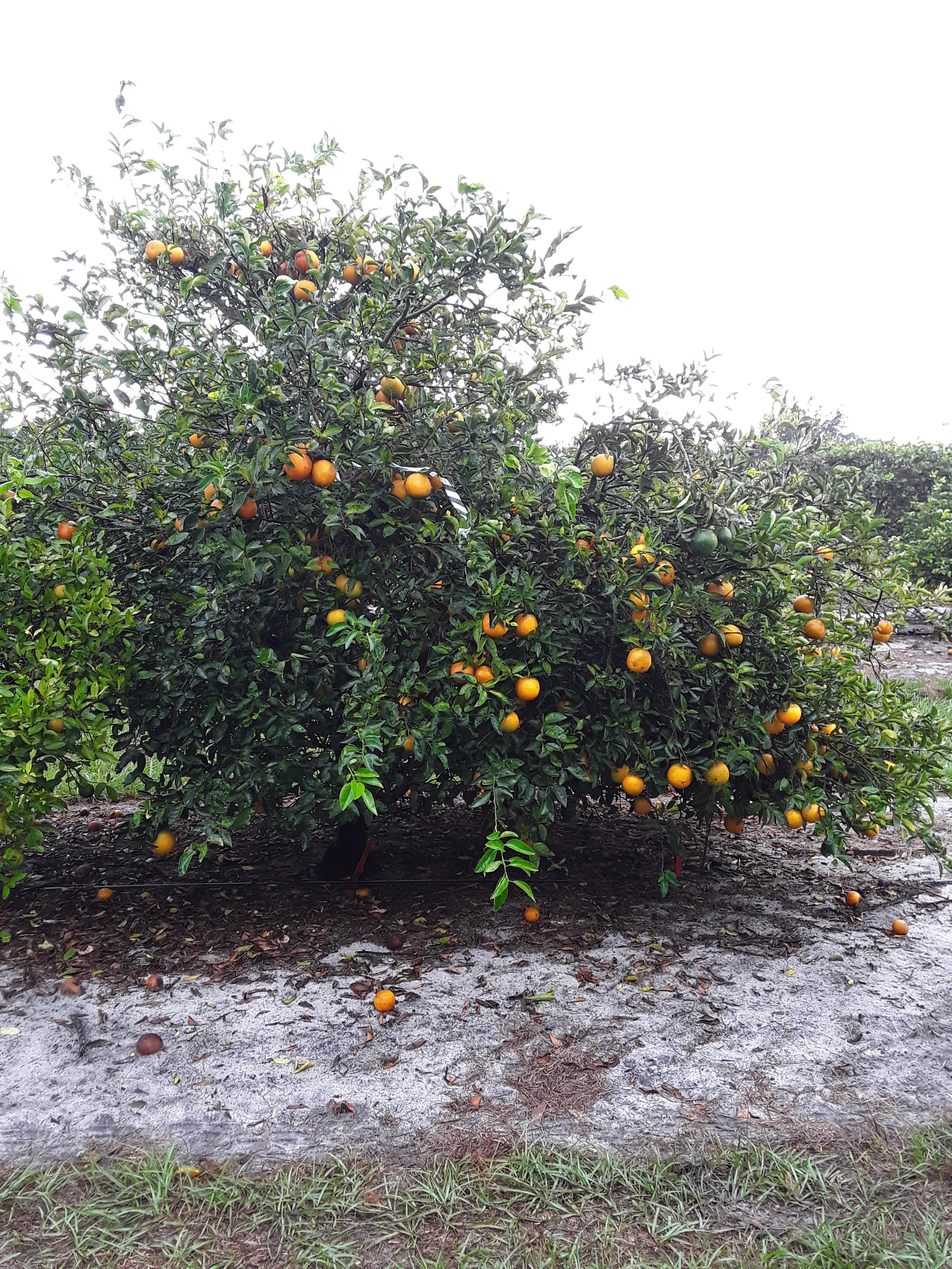fruit_on_ground: (429, 404, 467, 435), (299, 518, 333, 546), (625, 537, 656, 567), (309, 456, 338, 488), (689, 526, 719, 556), (282, 451, 312, 480), (387, 257, 419, 284), (666, 760, 695, 789), (481, 610, 510, 638), (619, 547, 651, 572), (703, 759, 731, 787), (710, 627, 739, 654), (335, 573, 364, 600), (333, 563, 363, 589), (150, 828, 177, 856), (625, 646, 652, 674), (404, 471, 432, 498), (572, 751, 599, 778), (378, 374, 406, 400), (310, 552, 339, 577), (332, 584, 359, 610), (651, 560, 677, 587), (589, 452, 616, 478), (515, 675, 542, 701), (446, 659, 475, 683), (294, 248, 320, 274), (55, 518, 82, 543), (380, 255, 406, 280), (503, 491, 528, 517), (719, 623, 745, 648), (698, 631, 723, 657), (515, 611, 540, 637), (243, 428, 272, 450), (371, 385, 397, 409), (625, 584, 651, 608), (292, 277, 318, 301), (789, 592, 816, 615), (358, 253, 383, 277), (235, 496, 259, 521), (497, 710, 522, 734), (778, 701, 803, 725), (2, 845, 25, 871), (143, 236, 166, 262), (325, 608, 351, 631), (802, 735, 828, 758), (704, 579, 731, 601), (753, 752, 777, 776), (621, 773, 645, 797), (389, 331, 414, 354), (340, 260, 363, 285), (186, 428, 212, 450), (571, 534, 597, 556), (802, 617, 828, 639), (714, 523, 736, 548), (404, 503, 427, 526), (801, 801, 824, 824), (160, 598, 184, 620), (166, 241, 187, 266), (312, 678, 335, 700), (495, 524, 519, 545), (44, 713, 68, 734), (813, 542, 837, 563), (634, 611, 659, 631), (388, 473, 408, 498), (50, 580, 72, 602), (782, 807, 804, 829), (473, 663, 495, 685), (553, 695, 576, 716), (826, 645, 849, 666), (401, 316, 424, 337), (146, 534, 169, 555), (592, 528, 616, 548), (250, 795, 271, 817), (273, 257, 295, 278), (177, 388, 199, 409), (717, 579, 738, 601), (609, 763, 631, 784), (224, 260, 246, 281), (871, 624, 893, 645), (422, 546, 442, 569), (423, 576, 446, 596), (762, 715, 785, 735), (430, 503, 454, 522), (820, 721, 844, 740), (292, 588, 314, 608), (427, 470, 447, 492), (794, 754, 816, 774), (400, 731, 420, 753), (171, 514, 194, 533), (0, 482, 19, 505), (434, 601, 458, 619), (205, 498, 226, 518), (648, 616, 670, 635), (724, 815, 746, 834), (879, 757, 900, 776), (466, 366, 487, 385), (200, 479, 221, 498), (630, 607, 652, 625), (256, 237, 275, 257), (395, 692, 416, 710), (355, 655, 374, 674), (632, 797, 652, 815), (118, 512, 139, 529), (191, 515, 210, 533), (827, 761, 846, 779), (2, 596, 19, 613), (864, 822, 881, 839), (295, 439, 313, 455), (793, 642, 811, 658), (131, 558, 147, 575), (808, 644, 826, 659), (876, 620, 894, 635), (856, 796, 873, 811), (805, 722, 821, 735), (838, 769, 851, 782)
fruit_on_tree: (135, 1031, 165, 1059), (372, 987, 397, 1014), (59, 975, 86, 999), (143, 971, 165, 993), (382, 931, 405, 951), (522, 903, 542, 925), (891, 916, 910, 936), (843, 888, 862, 906), (94, 885, 114, 902), (87, 818, 105, 832), (355, 885, 372, 898), (29, 815, 43, 829), (77, 806, 92, 818), (110, 807, 124, 819)
